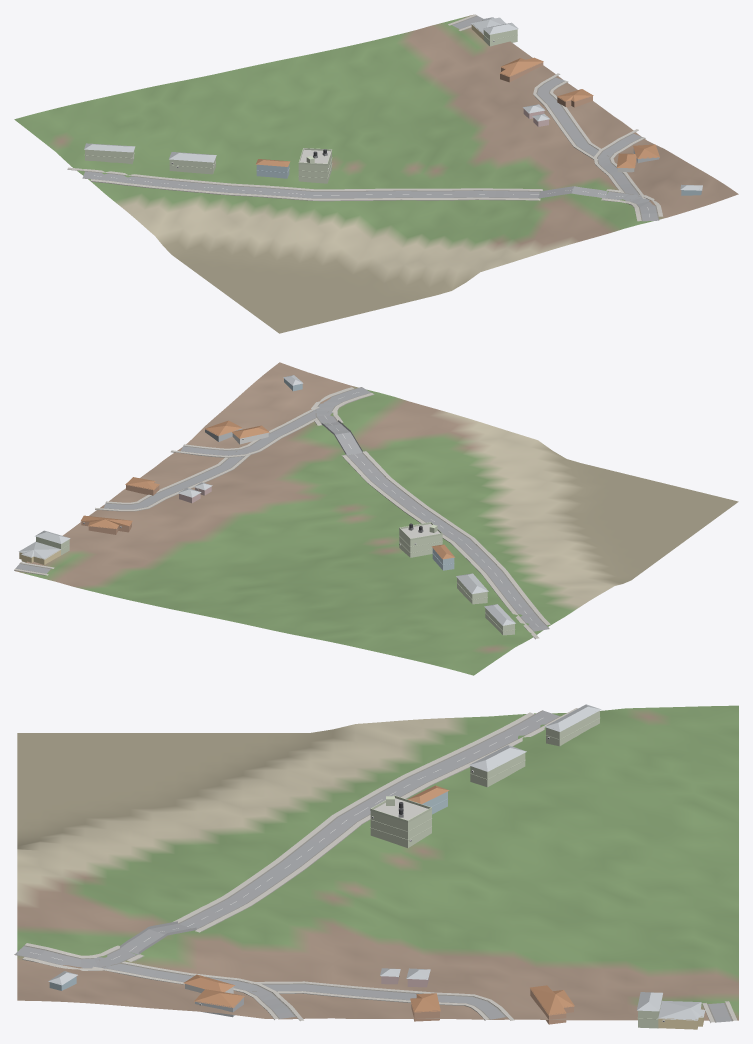
The picture shows the model from 3 angles, top to bottom: view 1: azimuth 30°, elevation 25°; view 2: azimuth 150°, elevation 25°; view 3: azimuth 270°, elevation 25°; orthographic projection. The views are drawn at different scales.
Parts seen in each view (by area): view 1: Terrain-col, Roads-col, Buildings-col, Sidewalks-col, Details; view 2: Terrain-col, Roads-col, Buildings-col, Sidewalks-col, Details; view 3: Terrain-col, Roads-col, Buildings-col, Sidewalks-col, Details.
Boxes of the visible parts, <box> form: Terrain-col: <box>14,14,738,333</box>; Roads-col: <box>82,15,659,221</box>; Buildings-col: <box>84,17,702,195</box>; Sidewalks-col: <box>67,14,662,221</box>; Details: <box>84,34,517,178</box>; Terrain-col: <box>15,362,738,675</box>; Roads-col: <box>15,387,549,631</box>; Buildings-col: <box>18,375,515,635</box>; Sidewalks-col: <box>14,387,550,639</box>; Details: <box>61,438,515,631</box>; Terrain-col: <box>17,705,738,1020</box>; Roads-col: <box>14,710,732,1022</box>; Buildings-col: <box>48,704,705,1029</box>; Sidewalks-col: <box>22,708,737,1022</box>; Details: <box>199,718,664,1021</box>.
Bounding box in the file's own units: 266 × 18.78 × 257.
